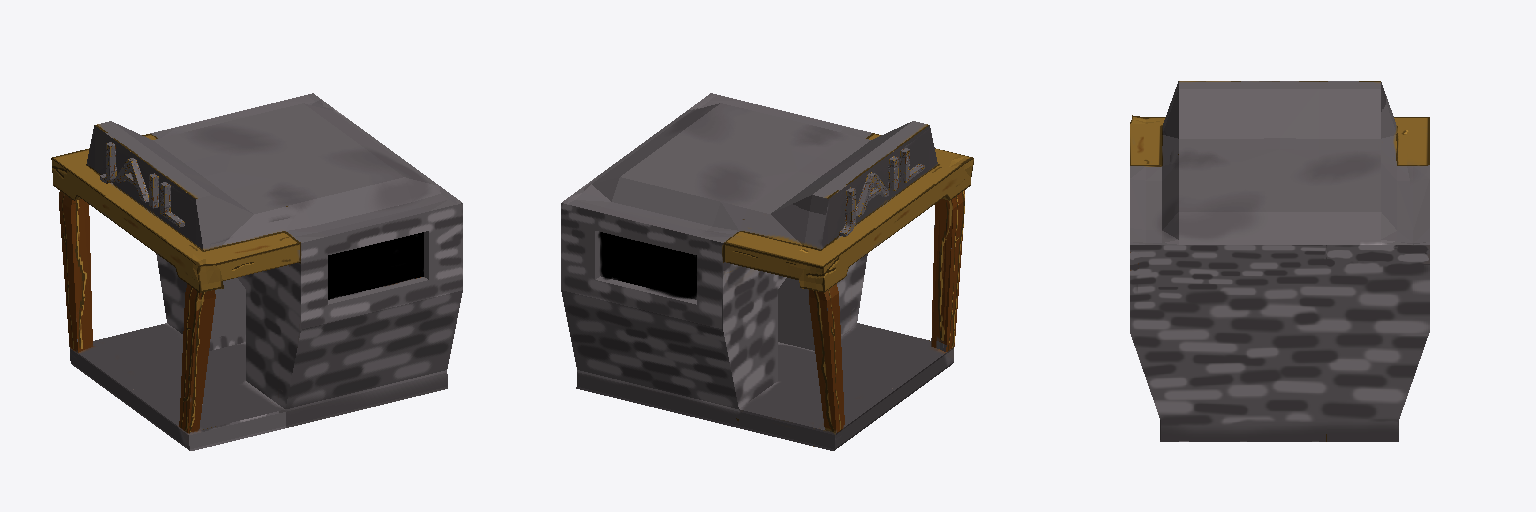
3 renders of one model, left to right at view 1: azimuth 30°, elevation 25°; view 2: azimuth 150°, elevation 25°; view 3: azimuth 270°, elevation 25°, orthographic.
Parts seen in each view (by area): view 1: jail_Cube.001, Text; view 2: jail_Cube.001, Text; view 3: jail_Cube.001.
Part boxes in pixels (left/top/right/bottom): jail_Cube.001: left=51, top=93, right=462, bottom=450; Text: left=99, top=142, right=184, bottom=227; jail_Cube.001: left=561, top=93, right=973, bottom=450; Text: left=839, top=148, right=924, bottom=236; jail_Cube.001: left=1130, top=81, right=1429, bottom=441.
Bounding box in the file's own units: 15.03 × 13.18 × 14.82.
2 materials, 1 textured.